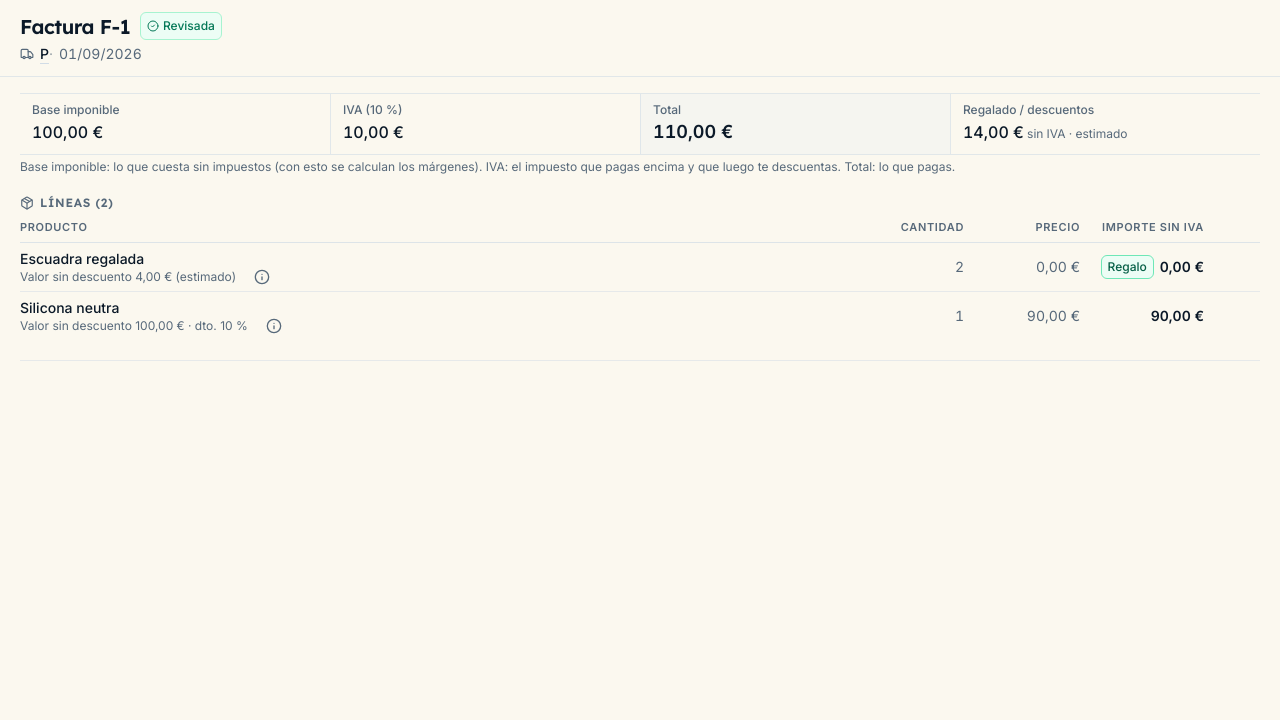
FichaDocumento › abonos y regalado › regalado / descuentos junto a los importes, con «estimado» si alguna línea lo es, y «Regalo» en la línea
Expected: the element with test id "regalado-documento" reads "Regalado / descuentos 14,00 € sin IVA · estimado", 950,94 -> 1260,154
Expected: the text "Regalo" is shown once, 1101,254 -> 1154,278
Click the button named "Qué es el valor sin descuento" next to "Valor sin descuento 4,00 € (estimado)".
click(262, 276)  # box 240,254 -> 284,298
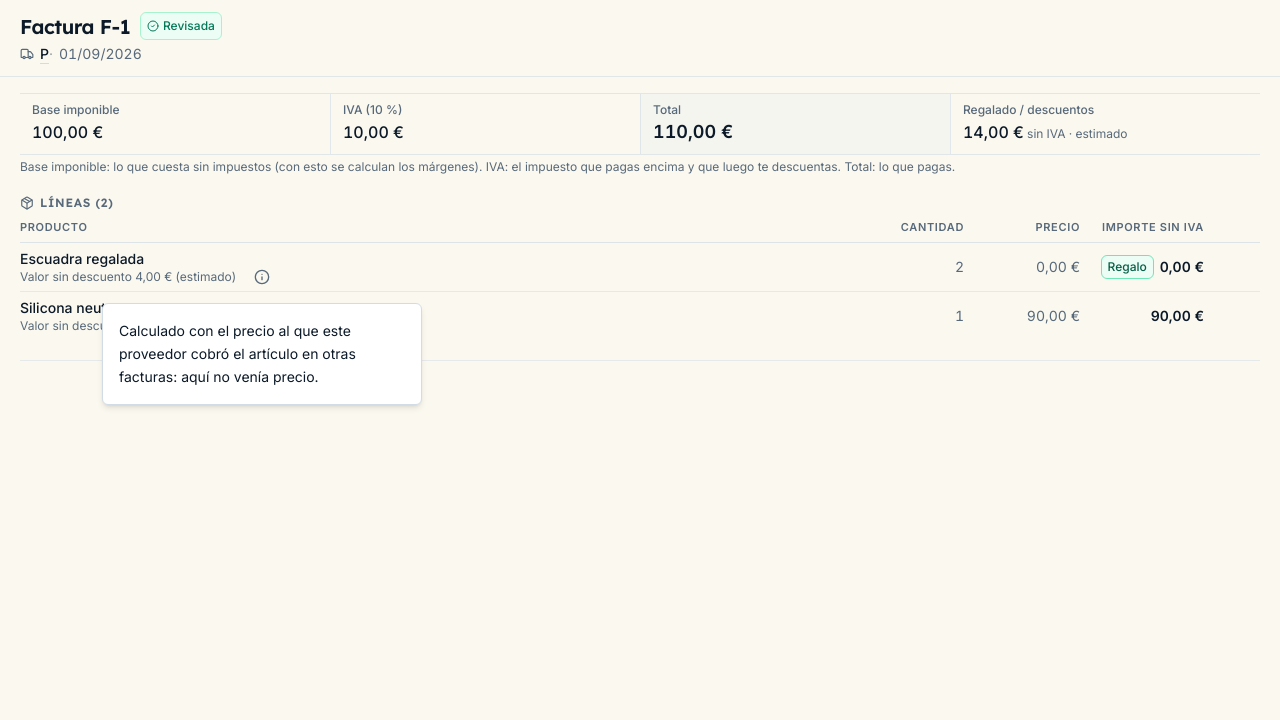
Expected: the text "precio al que este proveedor cobró el artículo" is shown, 119,322 -> 356,384
